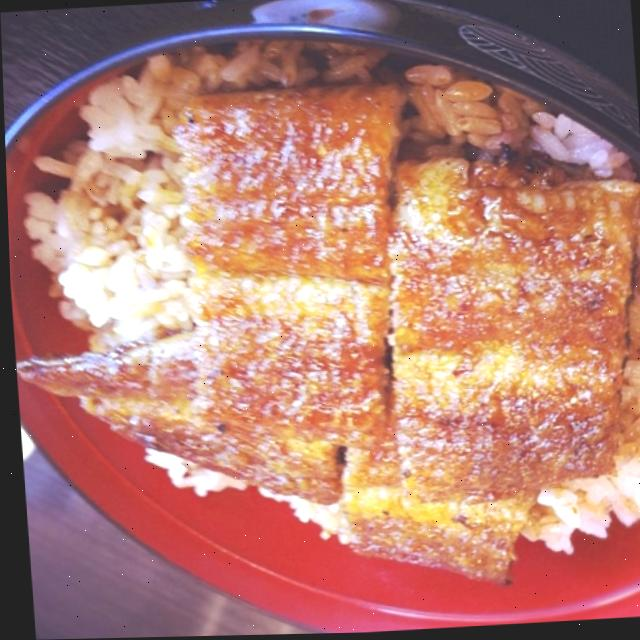蔬菜料理: (38, 0, 640, 639)
